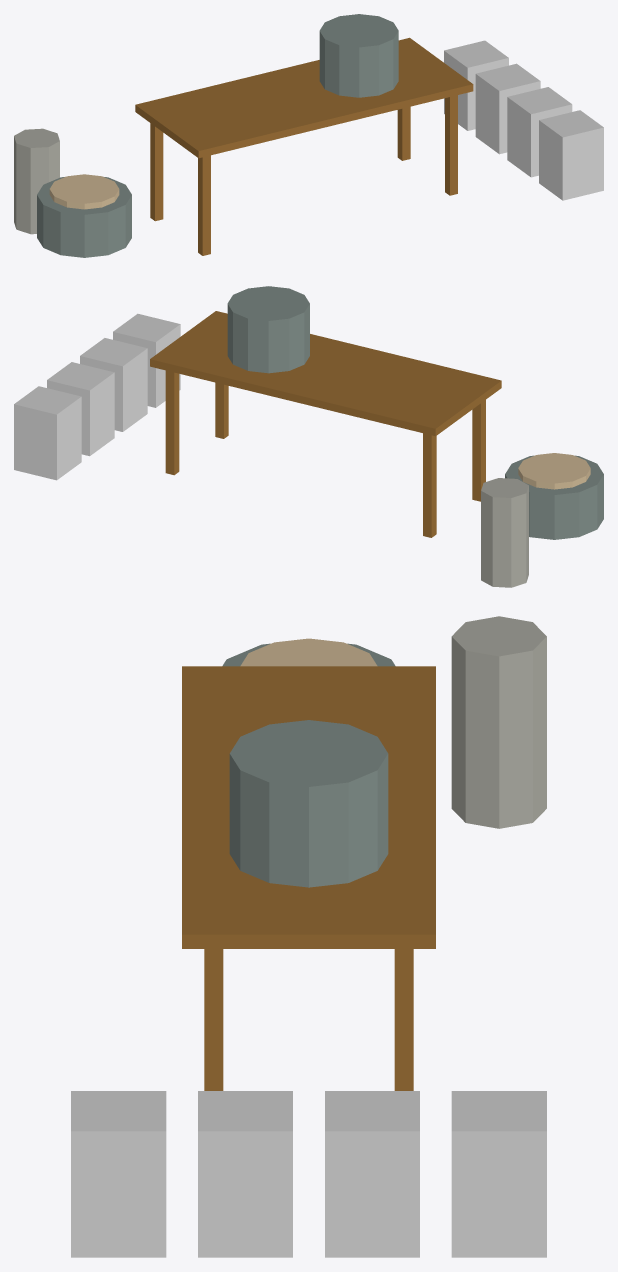
File: SM_CocinaCampana_v2_Garrafas_LOD0.fbx
3 renders of one model, top to bottom at view 1: azimuth 30°, elevation 25°; view 2: azimuth 150°, elevation 25°; view 3: azimuth 270°, elevation 25°, orthographic. The views are drawn at different scales.
Parts seen in each view (by area): view 1: SM_vida_fuerte_v22_LOD0, Emision; view 2: SM_vida_fuerte_v22_LOD0, Emision; view 3: SM_vida_fuerte_v22_LOD0, Emision.
Part boxes in pixels (x1,y1,x2,y2): SM_vida_fuerte_v22_LOD0: (14, 14, 603, 257); Emision: (49, 174, 119, 209); SM_vida_fuerte_v22_LOD0: (14, 286, 603, 587); Emision: (518, 453, 590, 489); SM_vida_fuerte_v22_LOD0: (71, 616, 546, 1257); Emision: (240, 638, 377, 666).
Bounding box in the file's own units: 3.65 × 1.12 × 1.5.
